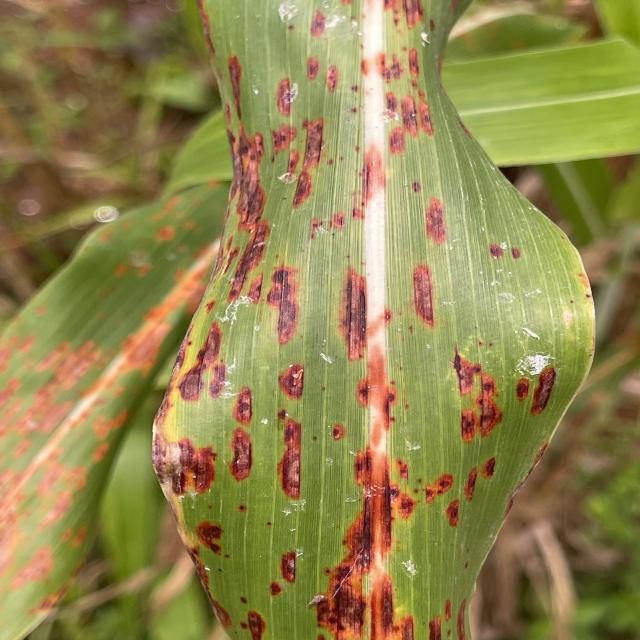millet_rust: (147, 0, 602, 640), (0, 157, 250, 640)
